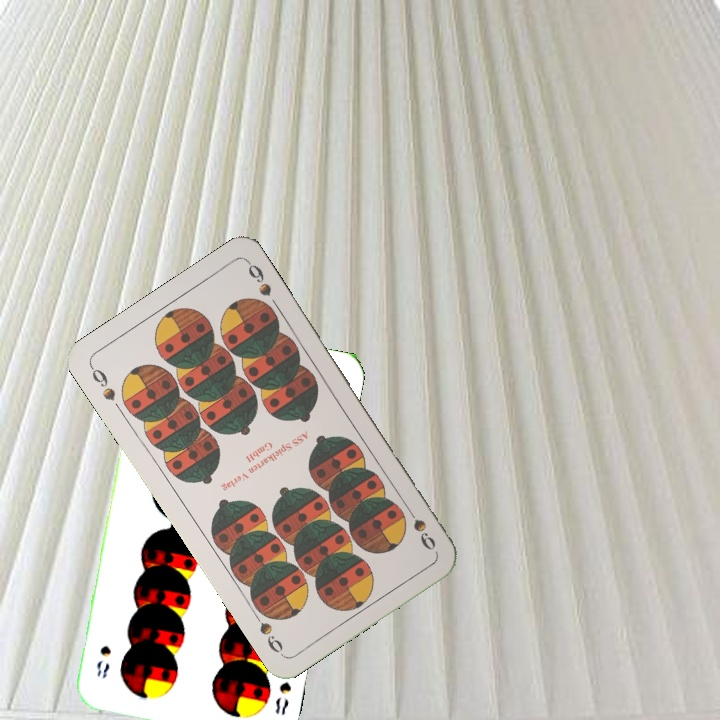S8: (271, 677, 294, 717)
S9: (401, 501, 439, 553), (86, 361, 119, 404)
